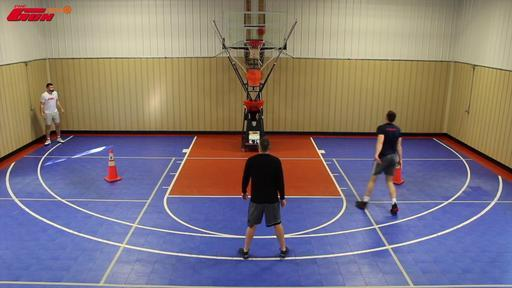ball: (257, 28, 265, 36)
human: (238, 138, 290, 260), (355, 110, 402, 217), (40, 84, 65, 146)
rim: (244, 40, 264, 58)
